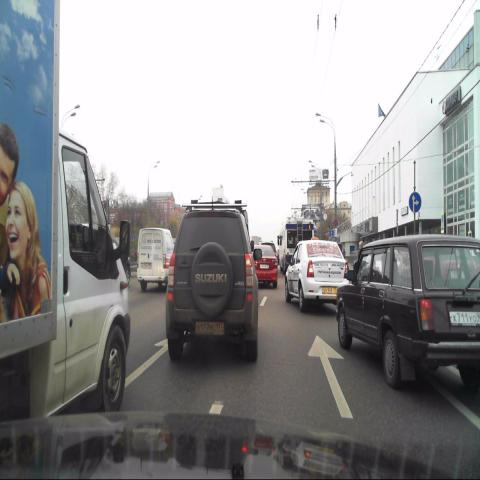4_1_4: (409, 191, 421, 213)
